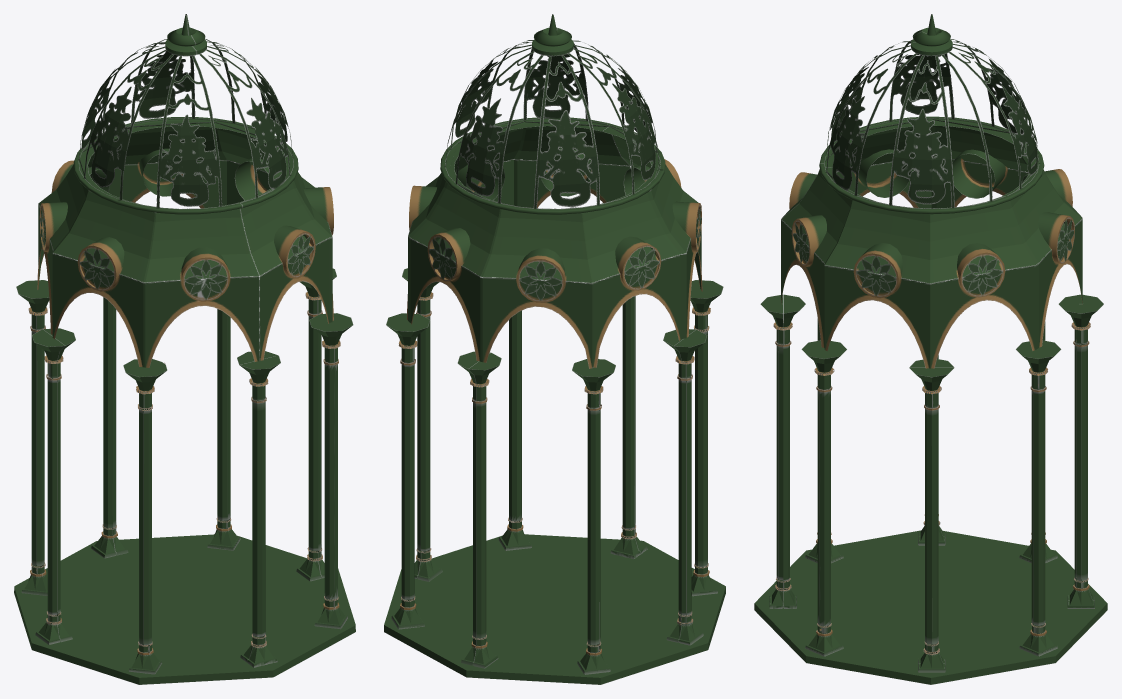
The picture shows the model from 3 angles, left to right: view 1: azimuth 30°, elevation 25°; view 2: azimuth 150°, elevation 25°; view 3: azimuth 270°, elevation 25°; orthographic projection.
Parts seen in each view (by area): view 1: Gengon001; view 2: Gengon001; view 3: Gengon001.
Boxes of the visible parts, box(x1,y1,x2,y2) form: Gengon001: box(14, 14, 355, 684); Gengon001: box(384, 14, 725, 684); Gengon001: box(754, 14, 1107, 684).
Size of the model in its own units: 87.76 by 164 by 87.76.
Materials: 1 (1 with a texture image).
